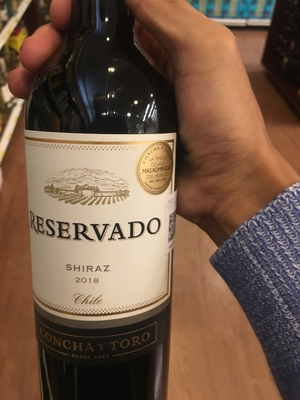reservado shiraz: (28, 22, 180, 398)
